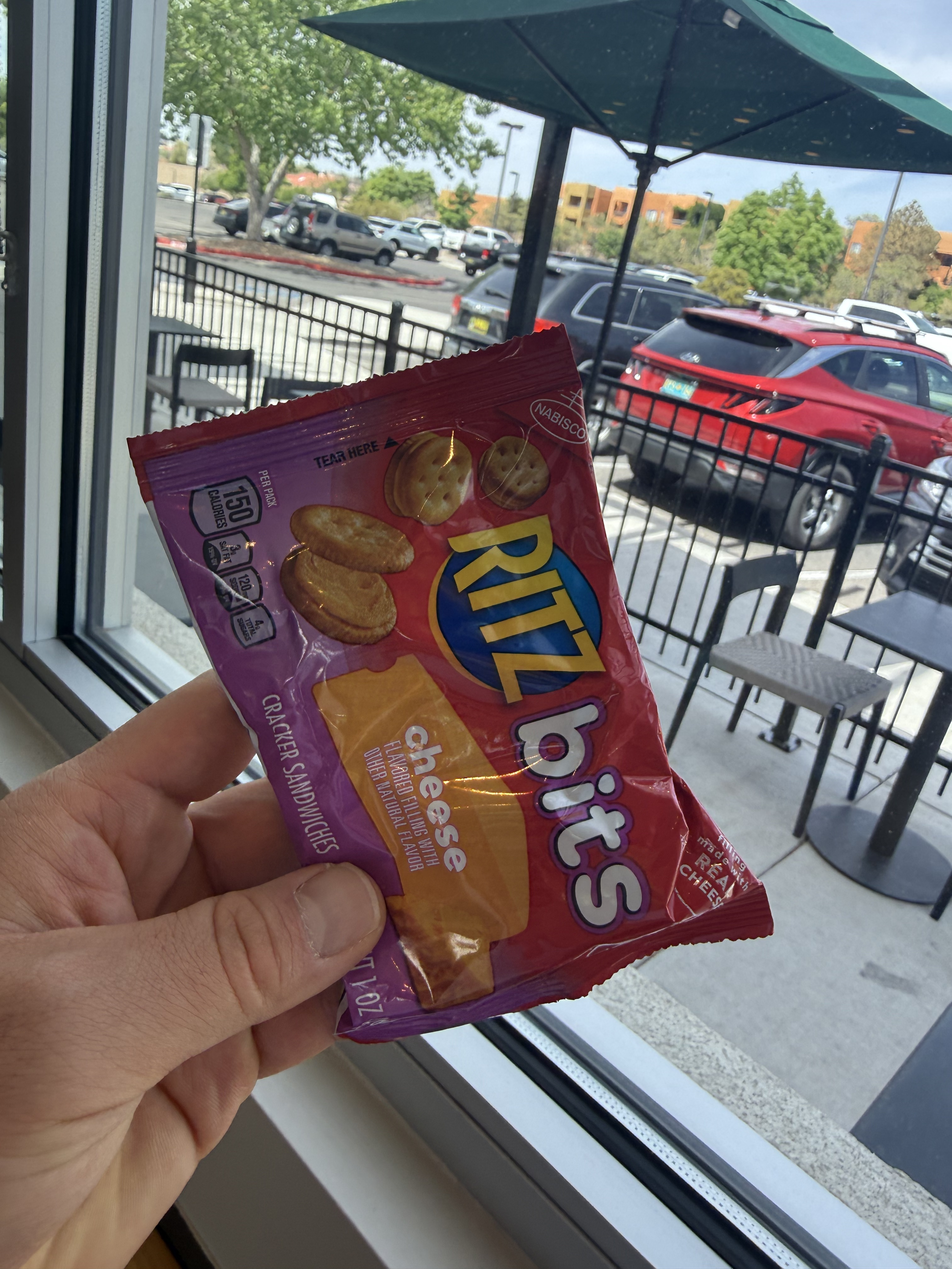ritz_cheese: (126, 446, 581, 1128)
